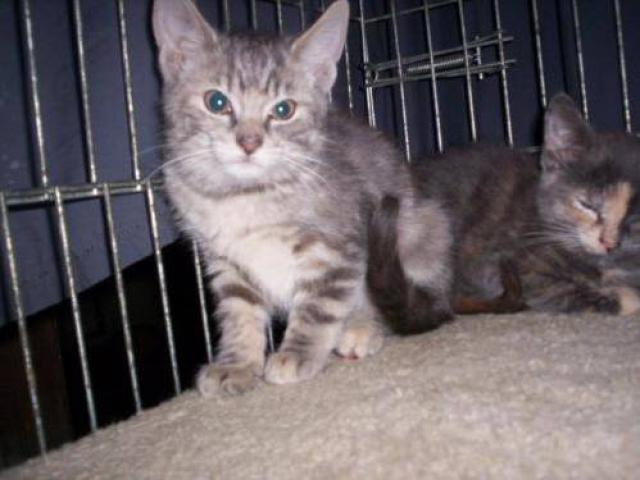cat: (149, 9, 640, 392)
